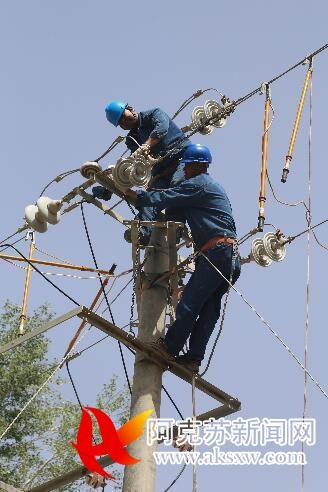blue: (179, 141, 213, 179), (103, 97, 137, 131)
